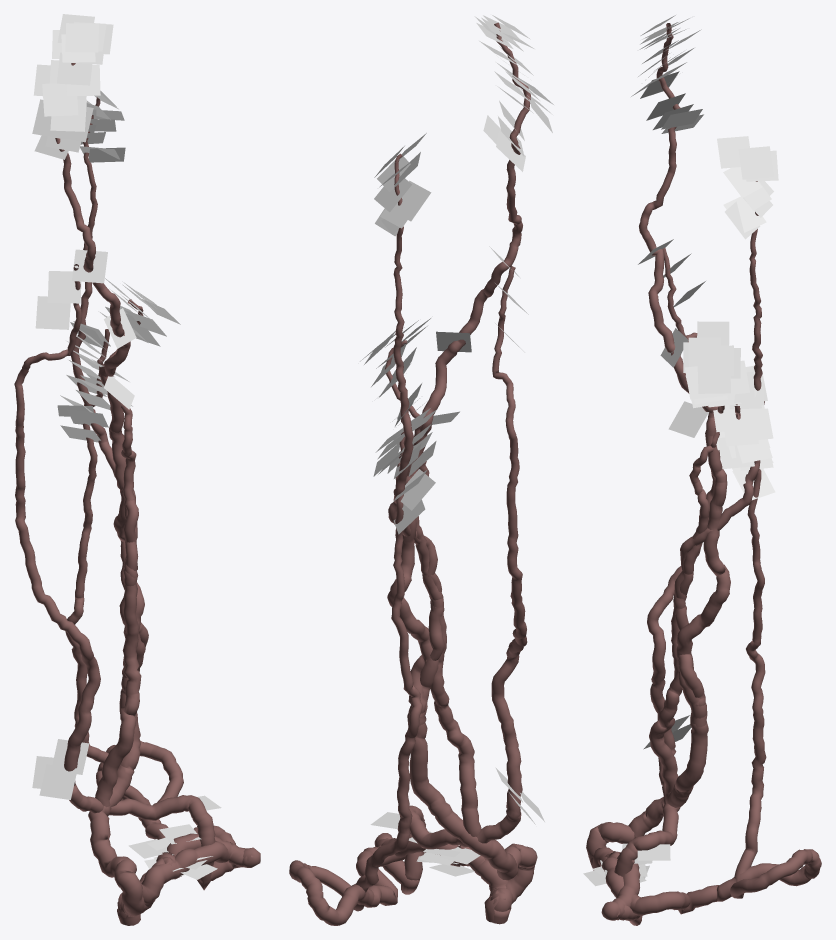
Rendered from big ivy 4.fbx.
3 views of the same model, side by side, from view 1: azimuth 30°, elevation 25°; view 2: azimuth 150°, elevation 25°; view 3: azimuth 270°, elevation 25° (orthographic). The views are drawn at different scales.
Visible parts, largest first — view 1: IVY_Curve.007, IvyLeaf.011, IVY_Curve.003, IVY_Curve.005, IvyLeaf.003, IvyLeaf.010, IvyLeaf.007, IvyLeaf.006; view 2: IVY_Curve.007, IVY_Curve.003, IVY_Curve.005, IvyLeaf.011, IvyLeaf.010, IvyLeaf.007, IvyLeaf.003, IvyLeaf.006; view 3: IVY_Curve.007, IvyLeaf.011, IVY_Curve.005, IVY_Curve.003, IvyLeaf.010, IvyLeaf.006, IvyLeaf.003.
Boxes of the visible parts, x1,y1,x2,y2 form: IVY_Curve.007: (55,63,148,915); IvyLeaf.011: (32,14,180,346); IVY_Curve.003: (14,264,260,924); IVY_Curve.005: (65,329,235,925); IvyLeaf.003: (32,271,221,810); IvyLeaf.010: (57,311,217,879); IvyLeaf.007: (72,249,207,871); IvyLeaf.006: (104,308,136,409); IVY_Curve.007: (385,22,537,922); IVY_Curve.003: (374,265,527,924); IVY_Curve.005: (289,402,512,925); IvyLeaf.011: (360,15,553,397); IvyLeaf.010: (373,381,458,864); IvyLeaf.007: (408,246,520,876); IvyLeaf.003: (370,283,544,829); IvyLeaf.006: (432,331,471,424); IVY_Curve.007: (586,23,764,870); IvyLeaf.011: (631,15,778,408); IVY_Curve.005: (592,404,821,915); IVY_Curve.003: (601,247,720,925); IvyLeaf.010: (583,365,775,886); IvyLeaf.006: (660,328,708,437); IvyLeaf.003: (637,253,705,860).
Size of the model in its own units: 55.87 by 238 by 59.54.
